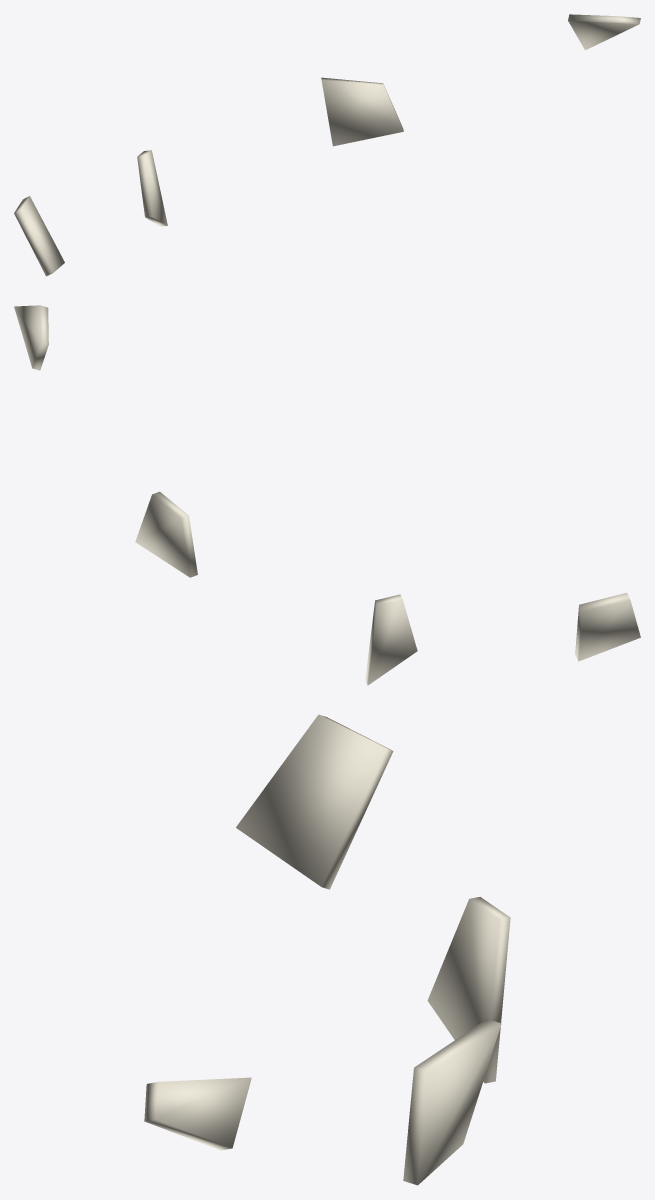
3 views of the same model, one above another, from view 1: azimuth 30°, elevation 25°; view 2: azimuth 150°, elevation 25°; view 3: azimuth 270°, elevation 25° (orthographic). The views are drawn at different scales.
Parts seen in each view (by area): view 1: ZA_69588b7d8986b0de; view 2: ZA_69588b7d8986b0de; view 3: ZA_69588b7d8986b0de.
Part boxes in pixels (x1,y1,x2,y2): ZA_69588b7d8986b0de: (14, 14, 640, 276); ZA_69588b7d8986b0de: (14, 305, 640, 685); ZA_69588b7d8986b0de: (144, 714, 510, 1185).
Size of the model in its own units: 0.0411 by 0.0122 by 0.0112.
